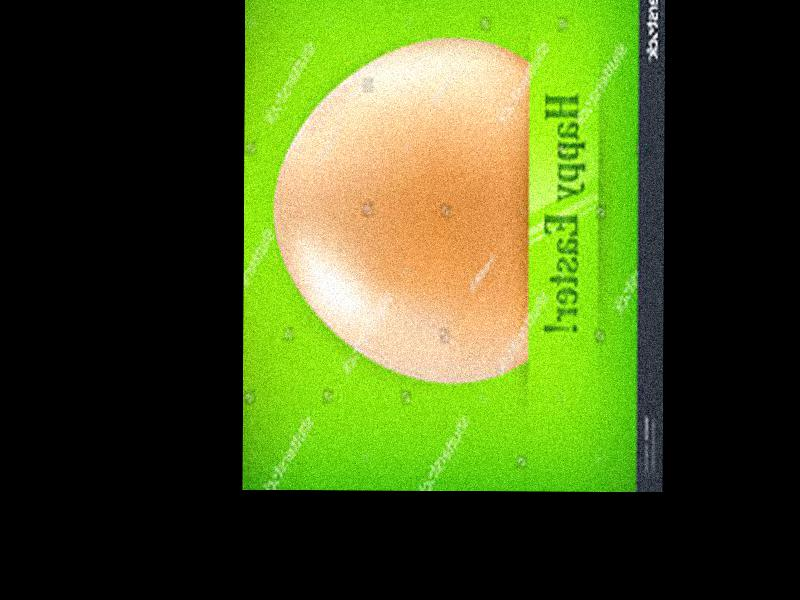Eggs: (272, 38, 529, 383)
